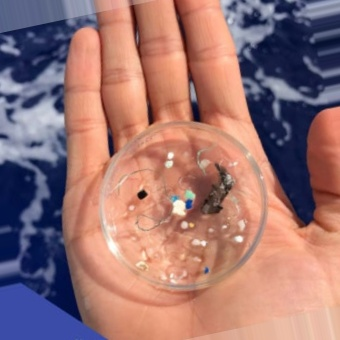plastic: (78, 122, 279, 301)
